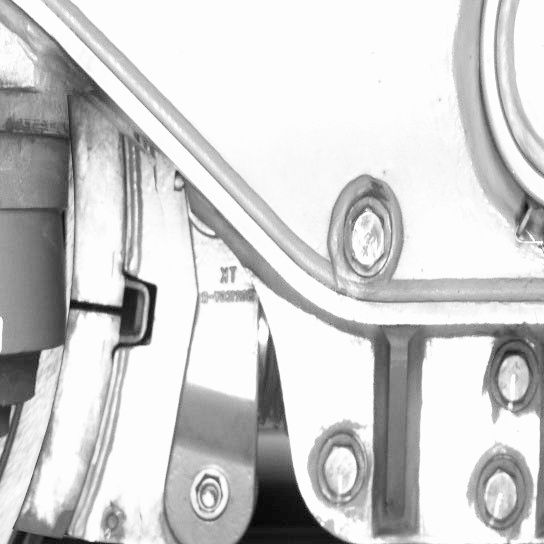ClosedKnifeSwitch: (4, 132, 128, 542)
